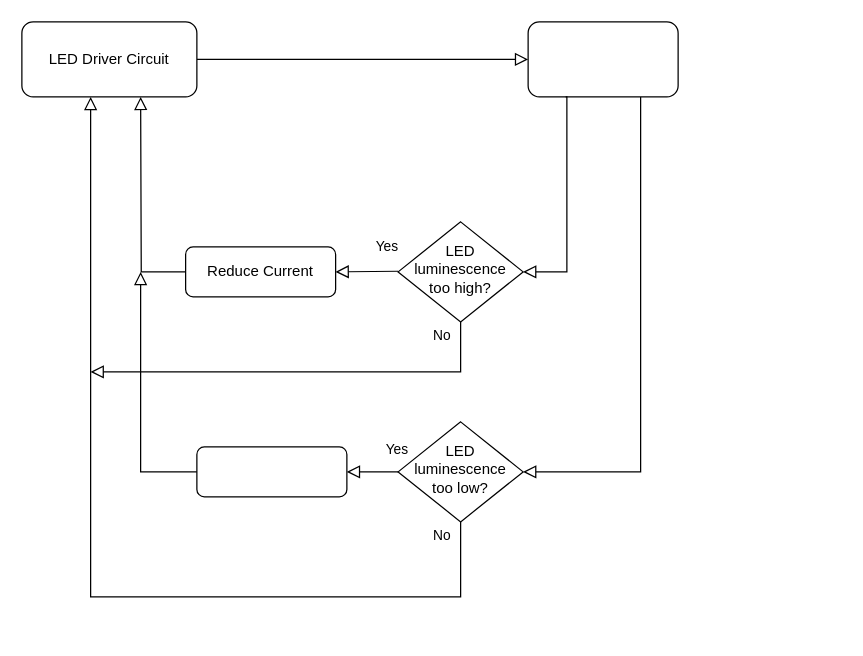
The diagram is 863 pixels wide and 656 high, and some of its shapes have lost their labels. The shapes that lost their labels are listed below. From the top down, each one's centre as x and y in pixels, then its label:
pixel 602 59: Photodiode
pixel 271 471: Increase Current
